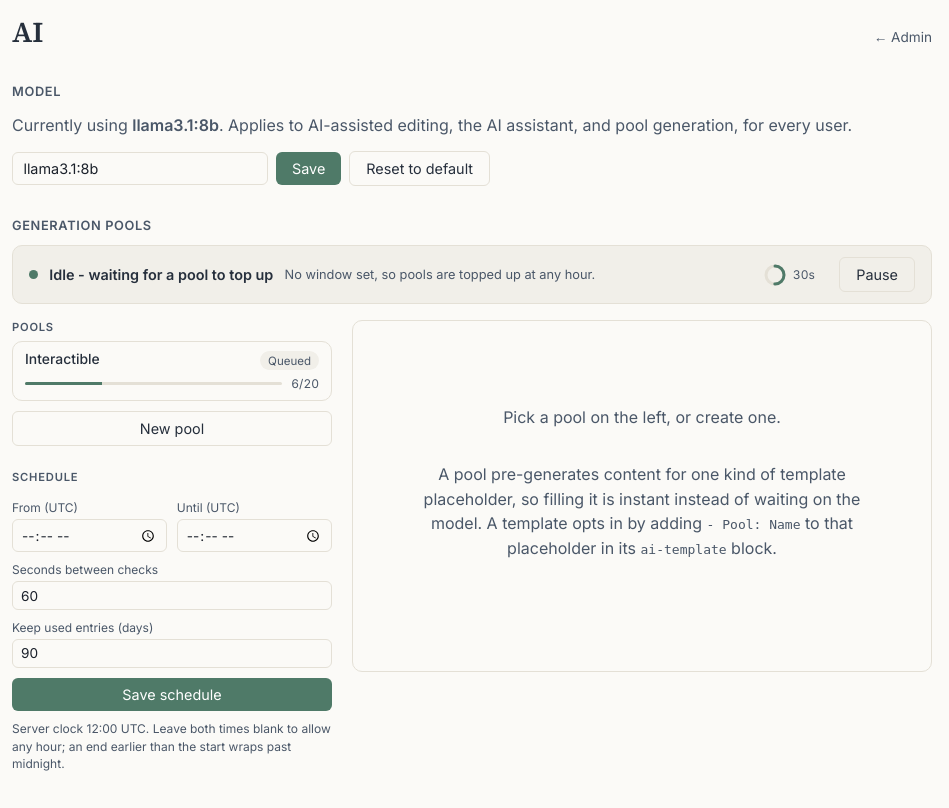
AI page - model › Reset to default clears the override
Expected: the text "llama3.1:8b" is shown, [132, 115, 219, 135]
Step 1. Click the button "Reset to default" → (420, 168), box [349, 151, 490, 186]
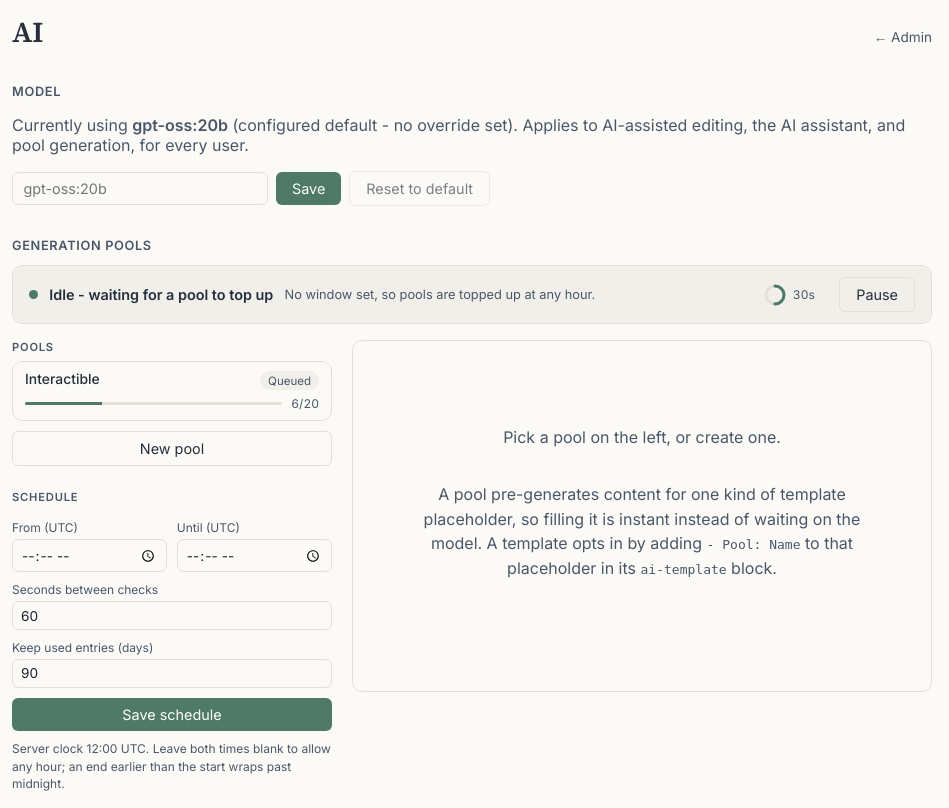
Expected: the text "gpt-oss:20b" is shown, [132, 115, 228, 135]
